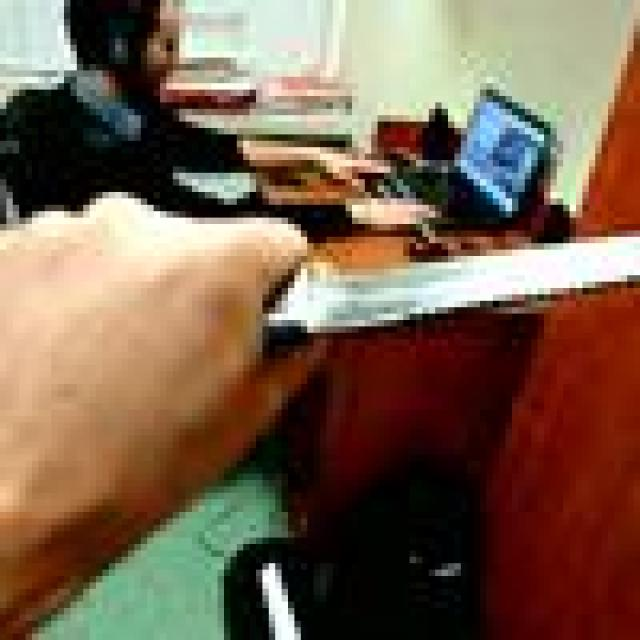knife: (266, 236, 640, 354)
